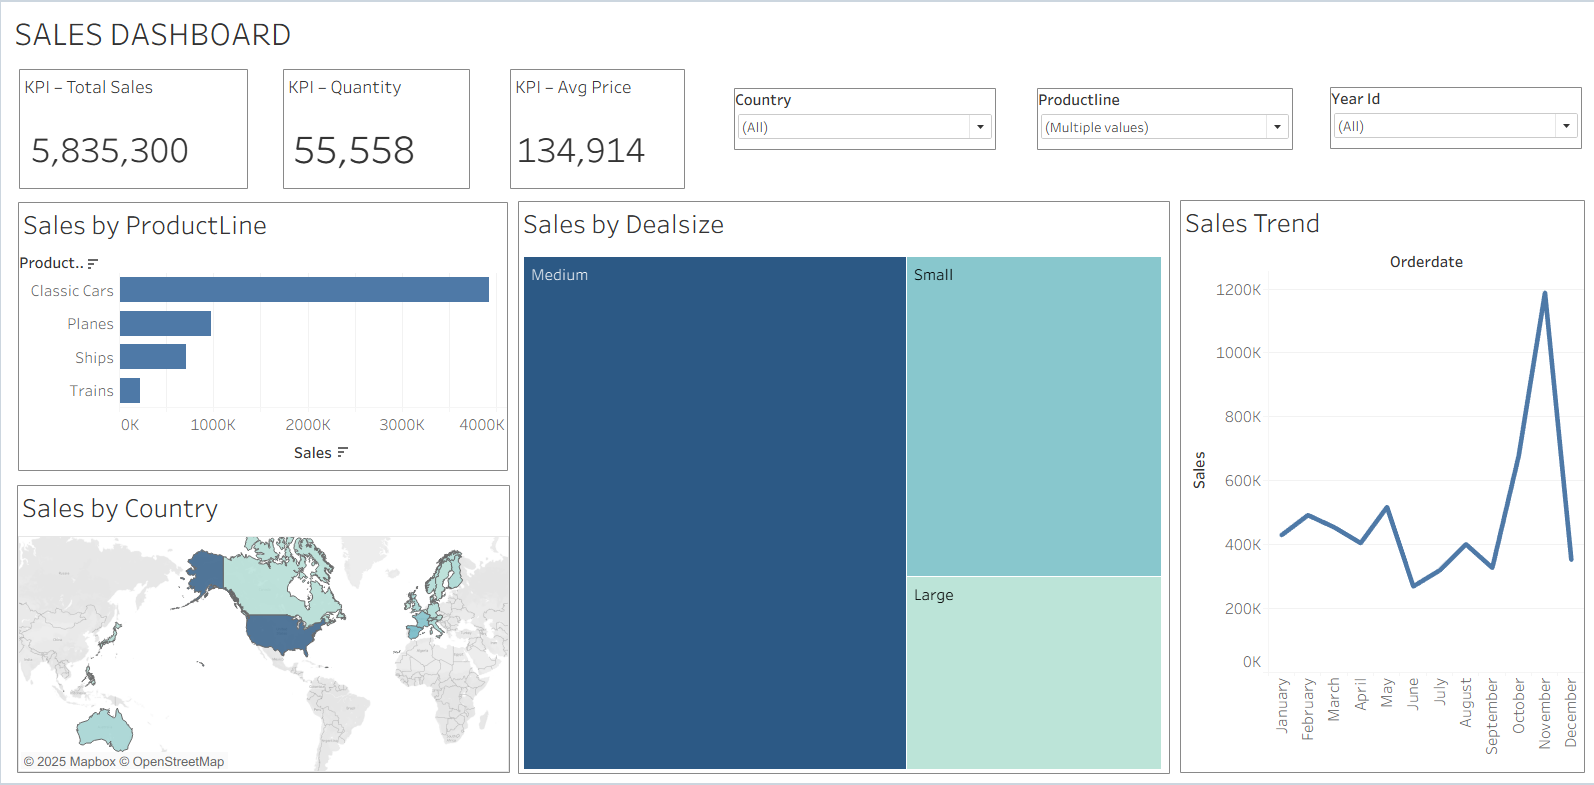

The dashboard page shown, as its layout file describes it:
{"tool":"tableau","page":{"name":"Sales Dashboard","canvas":[1000,1000],"units":"permille","ordinal":0},"visuals":[{"type":"title","box":[4.9,10.2,990.1,63.7]},{"type":"worksheet","title":"KPI – Total Sales","mark":"Text","box":[12.3,87.9,141.4,152.9]},{"type":"worksheet","title":"KPI – Quantity","mark":"Text","box":[175.3,87.9,115.4,152.9]},{"type":"worksheet","title":"KPI – Avg Price","mark":"Text","box":[315.4,87.9,108,152.9]},{"type":"filter","title":"Sales by ProductLine","param":"[federated.0zr6vtm041id5j13g6f990n9cnyr].[none:YEAR_ID:ok]","box":[821.6,110.8,155.6,79]},{"type":"filter","title":"Sales by ProductLine","param":"[federated.0zr6vtm041id5j13g6f990n9cnyr].[none:COUNTRY:nk]","box":[453.7,112.1,161.7,79]},{"type":"filter","title":"Sales by ProductLine","param":"[federated.0zr6vtm041id5j13g6f990n9cnyr].[none:PRODUCTLINE:nk]","box":[640.7,112.1,158,79]},{"type":"worksheet","title":"Sales Trend","mark":"Line","rows":["SALES"],"cols":["ORDERDATE"],"box":[729,254.8,250,729.9]},{"type":"worksheet","title":"Sales by Dealsize","mark":"Automatic","box":[320.4,256.1,402.5,729.9]},{"type":"worksheet","title":"Sales by ProductLine","mark":"Automatic","rows":["PRODUCTLINE"],"cols":["SALES"],"box":[11.7,257.3,302.5,342.7]},{"type":"worksheet","title":"Sales by Country","mark":"Automatic","box":[11.1,617.8,304.3,366.9]}]}

Visuals, with their boxes on the dashboard's canvas, which has no fixed pixel size, in thousandths of its width and height (x1, y1, x2, y2). These are canvas units, not pixel positions in the 1594x785 screenshot, which may show the page scaled, cropped or inside an application window:
title: bbox=(5, 10, 995, 74)
"KPI – Total Sales" worksheet (Text marks): bbox=(12, 88, 154, 241)
"KPI – Quantity" worksheet (Text marks): bbox=(175, 88, 291, 241)
"KPI – Avg Price" worksheet (Text marks): bbox=(315, 88, 423, 241)
"Sales by ProductLine" filter: bbox=(822, 111, 977, 190)
"Sales by ProductLine" filter: bbox=(454, 112, 615, 191)
"Sales by ProductLine" filter: bbox=(641, 112, 799, 191)
"Sales Trend" worksheet (Line marks): bbox=(729, 255, 979, 985)
"Sales by Dealsize" worksheet: bbox=(320, 256, 723, 986)
"Sales by ProductLine" worksheet: bbox=(12, 257, 314, 600)
"Sales by Country" worksheet: bbox=(11, 618, 315, 985)
